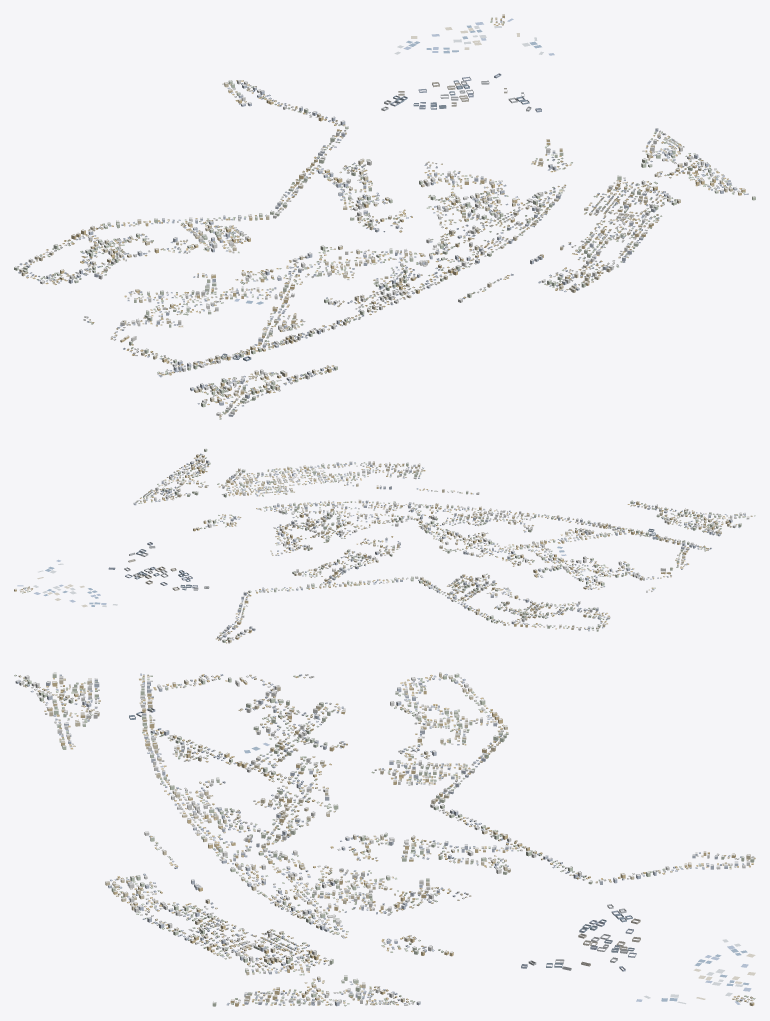
3 renders of one model, top to bottom at view 1: azimuth 30°, elevation 25°; view 2: azimuth 150°, elevation 25°; view 3: azimuth 270°, elevation 25°, orthographic. The views are drawn at different scales.
Visible parts, largest first — view 1: apartment, house, roof_zinc, roof_flat, factory; view 2: apartment, house, roof_zinc, roof_flat, factory; view 3: house, apartment, roof_zinc, roof_flat, factory.
Boxes of the visible parts, x1=… form: apartment: x1=14, y1=14, x2=755, y2=416; house: x1=17, y1=17, x2=748, y2=419; roof_zinc: x1=17, y1=18, x2=747, y2=419; roof_flat: x1=14, y1=14, x2=755, y2=414; factory: x1=221, y1=73, x2=541, y2=361; apartment: x1=14, y1=449, x2=749, y2=642; house: x1=20, y1=453, x2=754, y2=643; roof_zinc: x1=17, y1=454, x2=755, y2=642; roof_flat: x1=14, y1=448, x2=748, y2=640; factory: x1=108, y1=528, x2=657, y2=590; house: x1=14, y1=673, x2=755, y2=1006; apartment: x1=15, y1=672, x2=754, y2=1006; roof_zinc: x1=14, y1=674, x2=755, y2=1005; roof_flat: x1=16, y1=672, x2=753, y2=1004; factory: x1=129, y1=707, x2=640, y2=971.
Size of the model in its own units: 1.4e+08 by 731111 by 1.32e+08.
